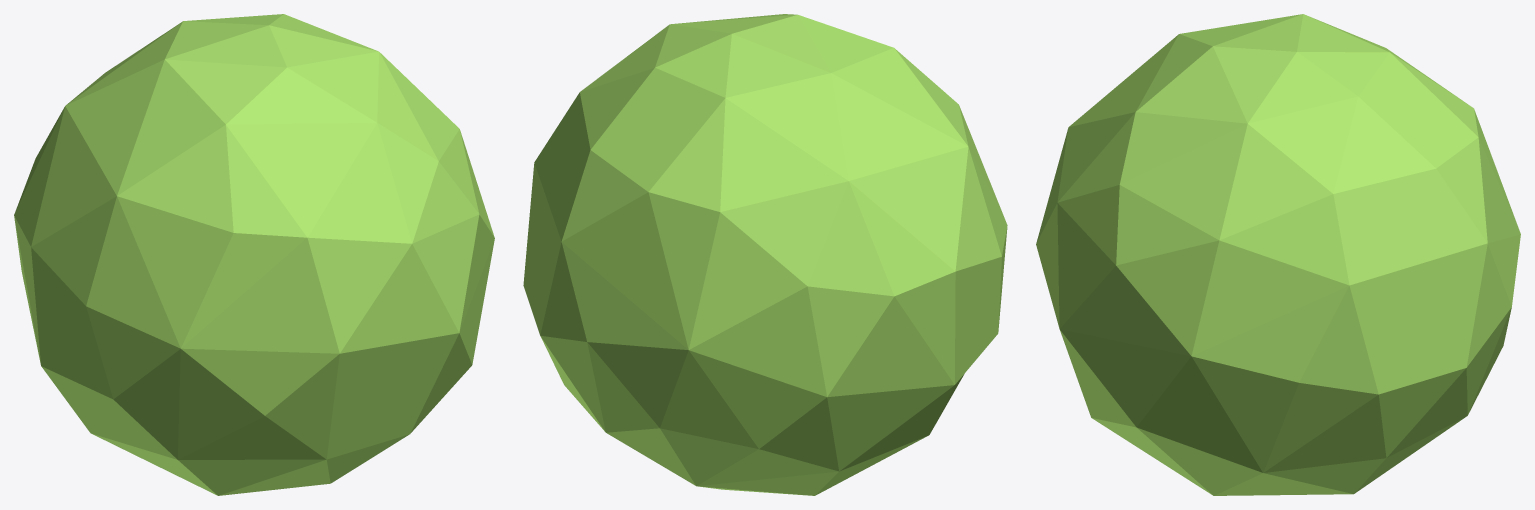
The model's file is efac2e.fbx.
3 renders of one model, left to right at view 1: azimuth 30°, elevation 25°; view 2: azimuth 150°, elevation 25°; view 3: azimuth 270°, elevation 25°, orthographic.
Visible parts, largest first — view 1: Head; view 2: Head; view 3: Head.
Boxes of the visible parts, x1,y1,x2,y2 form: Head: (14,14,494,495); Head: (523,14,1007,495); Head: (1036,14,1520,495).
Bounding box in the file's own units: 68.85 × 69.39 × 69.47.
